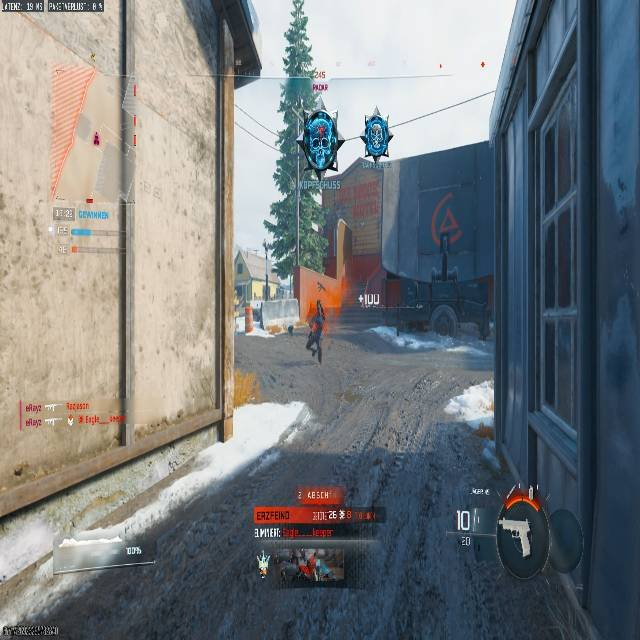player: (362, 110, 391, 164), (305, 302, 327, 361)
